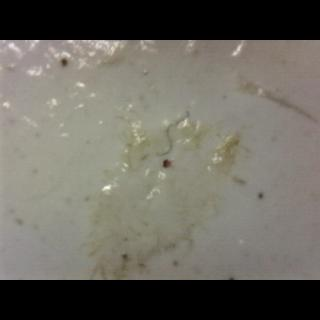Microplastic: (156, 106, 194, 162)
